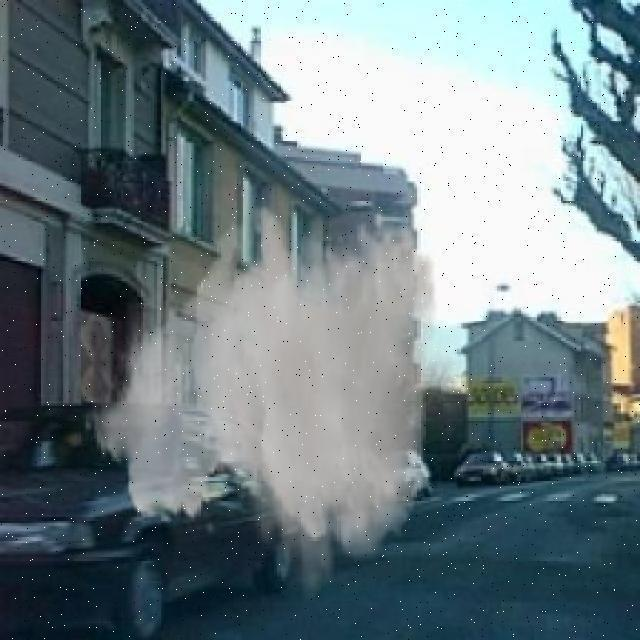smoke: (154, 237, 423, 566)
